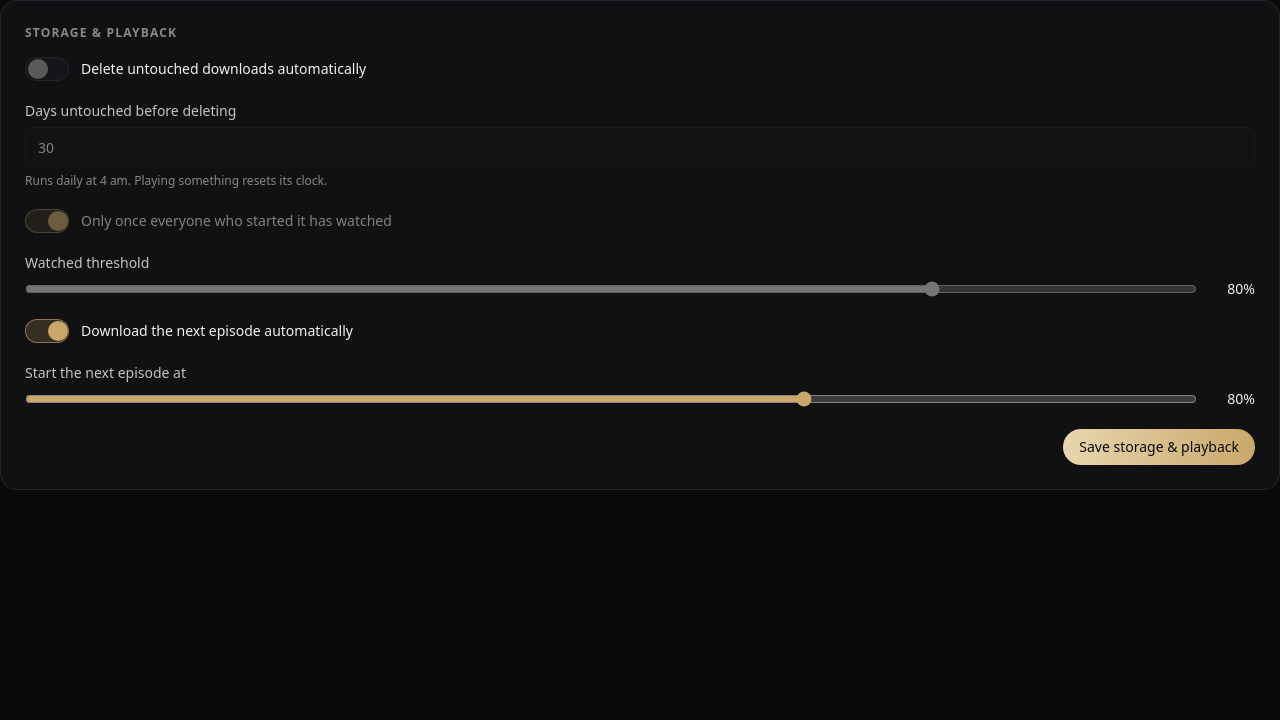
it: StorageAndPlaybackSection › dependent controls follow their switches
Expected: the number field labelled "Days untouched before deleting" is disabled, [25,127,1255,167]
Expected: the slider labelled "Watched threshold" is disabled, [25,281,1197,297]
Click the switch labelled "Download the next episode automatically".
click(189, 331)  # box [25,319,353,343]
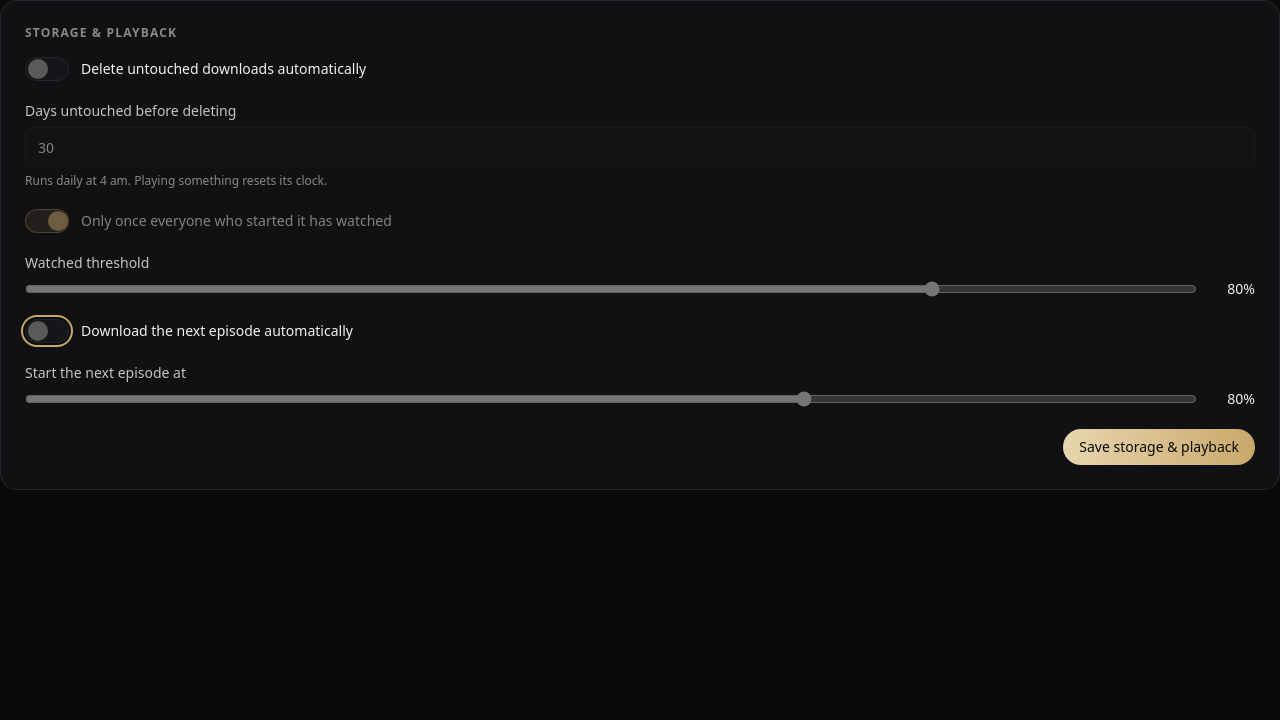
Now the slider labelled "Start the next episode at" is disabled, box [25,391,1197,407]
Click the switch labelled "Delete untouched downloads automatically".
click(196, 69)  # box [25,57,366,81]
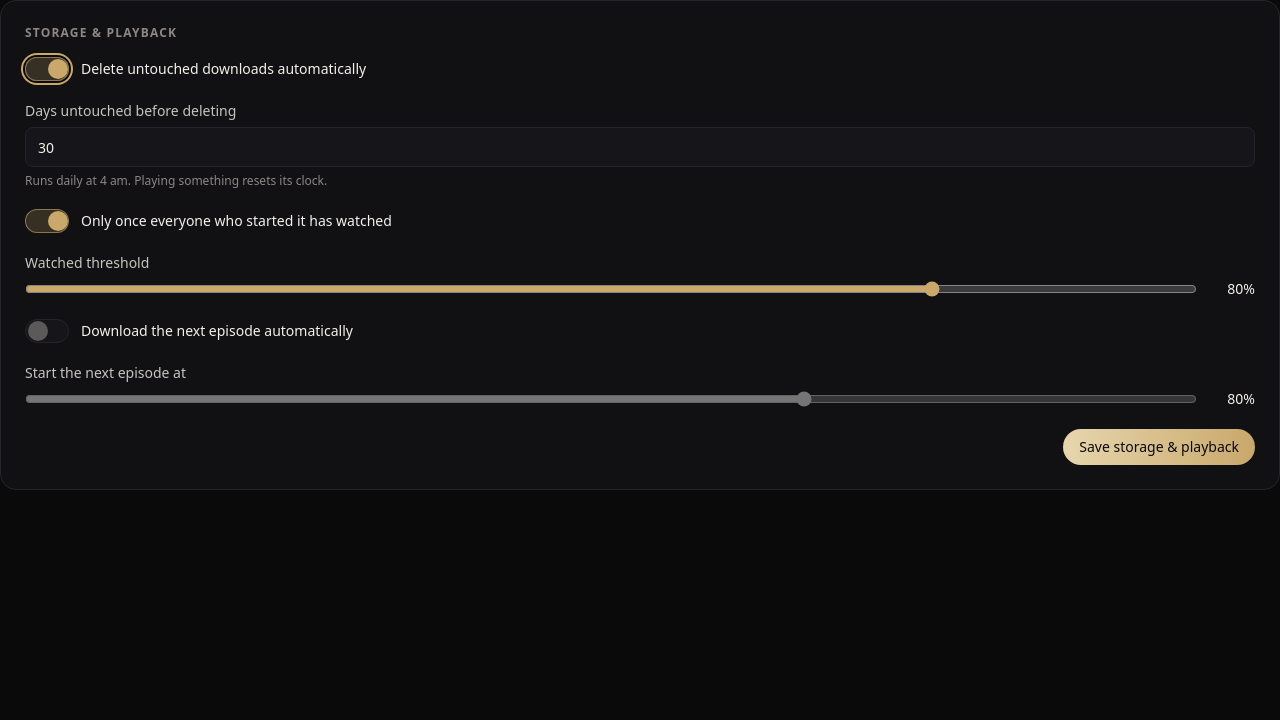
Now the number field labelled "Days untouched before deleting" is enabled, box [25,127,1255,167]
Now the slider labelled "Watched threshold" is enabled, box [25,281,1197,297]
Click the switch labelled "Only once everyone who started it has watched".
click(208, 221)  # box [25,209,392,233]
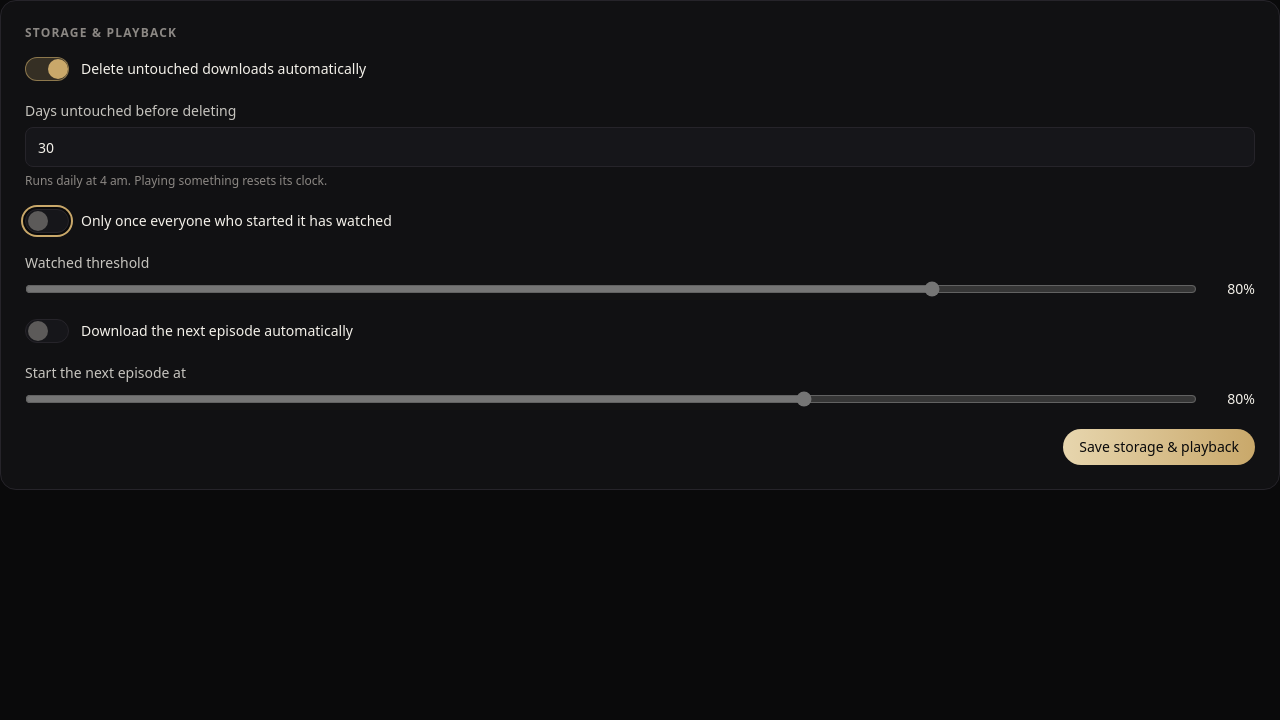
Now the number field labelled "Days untouched before deleting" is enabled, box [25,127,1255,167]
Now the slider labelled "Watched threshold" is disabled, box [25,281,1197,297]
